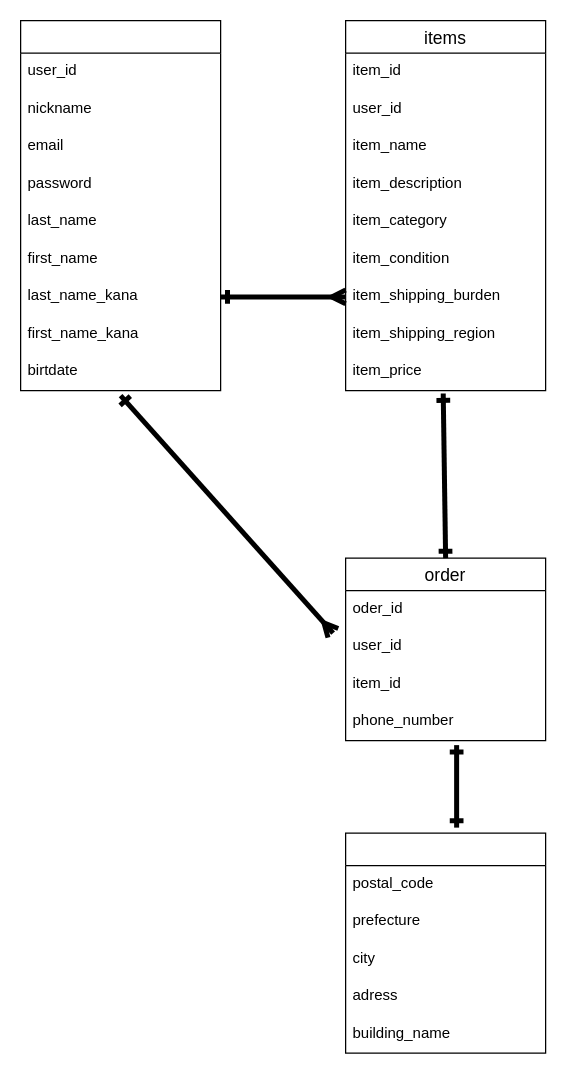
Some shapes in this 566 by 1074 pixel diagram are drawn without their labels. Each missing label, with the box of its shape:
adresses: (344, 832, 546, 1053)
users: (19, 19, 221, 391)
